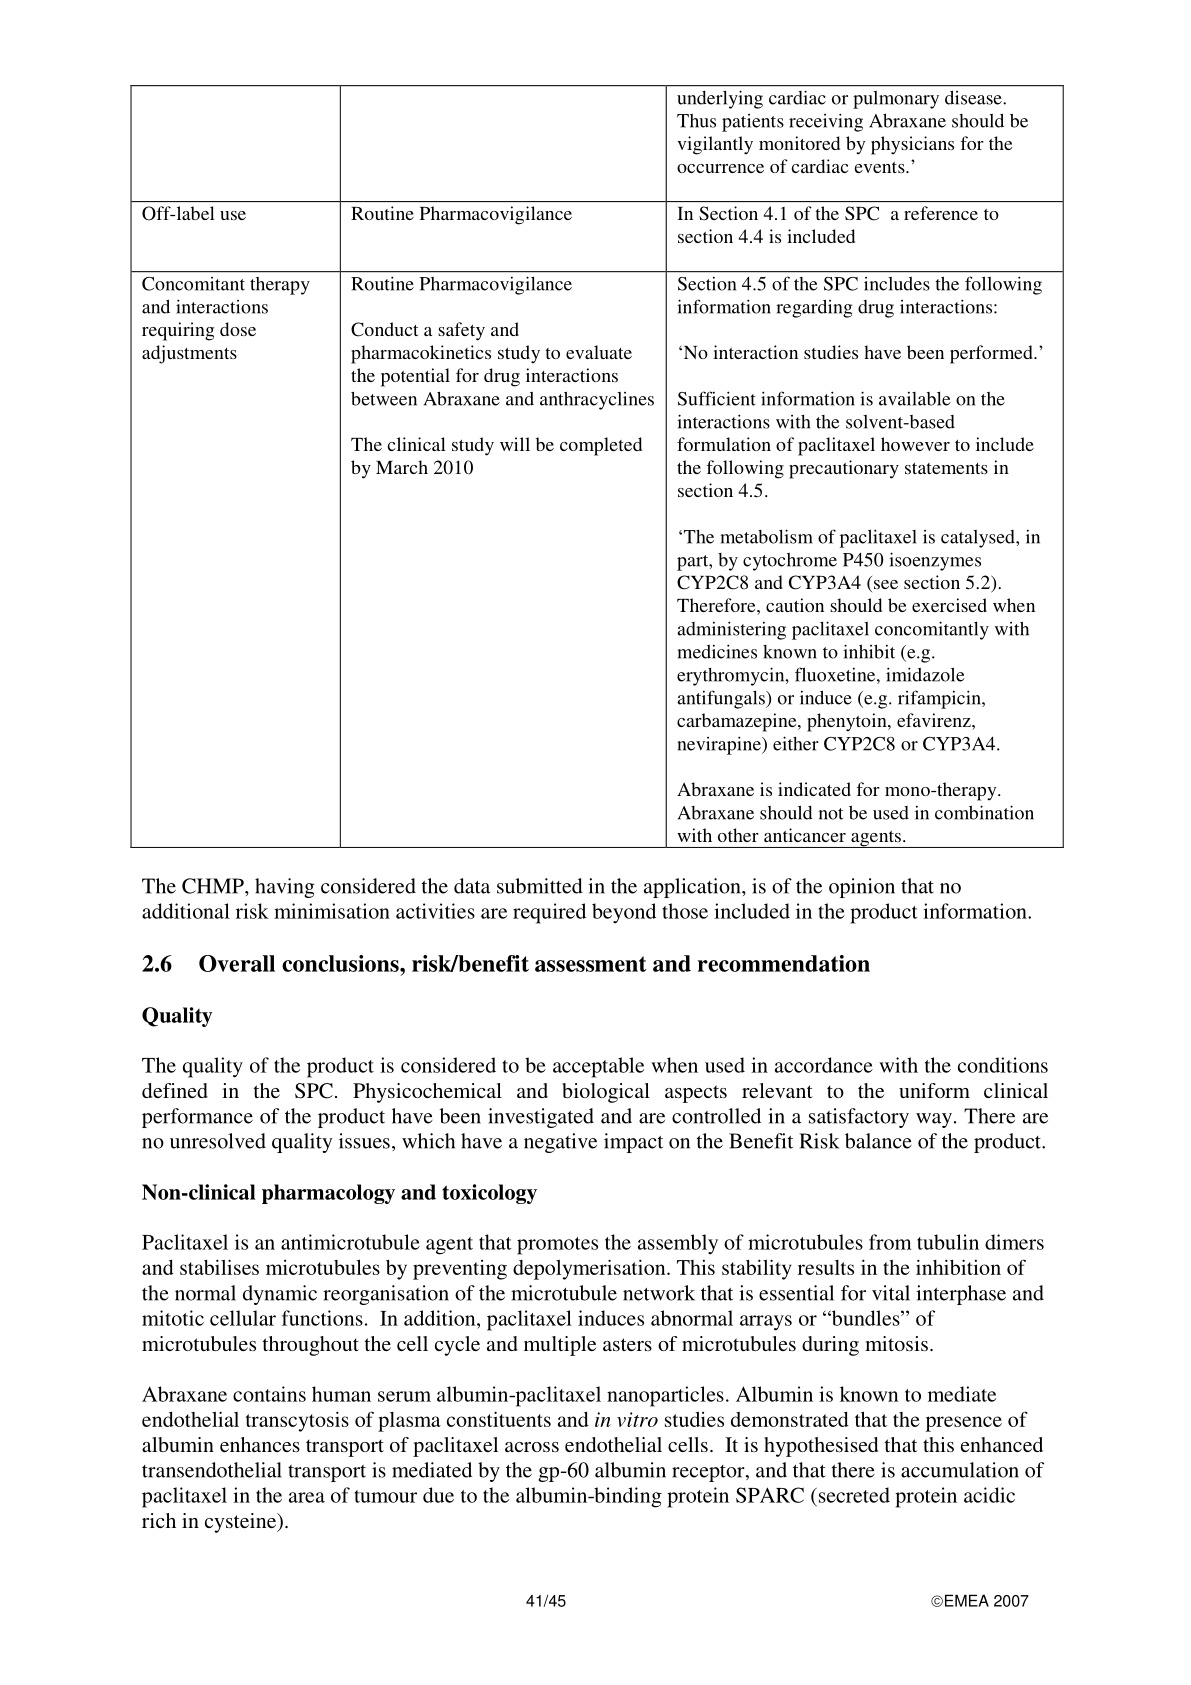full_lined: (130, 84, 1063, 848)
